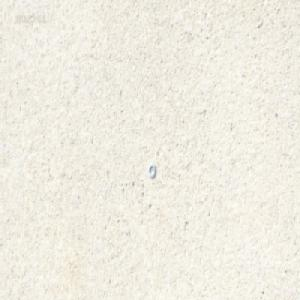Washer: (148, 163, 156, 178)
